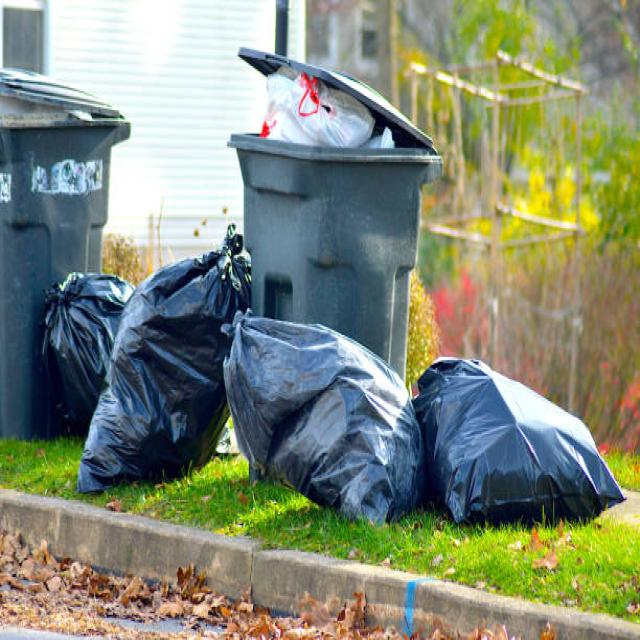trash: (47, 256, 228, 497), (231, 308, 422, 497), (422, 379, 626, 522), (257, 66, 379, 143)
